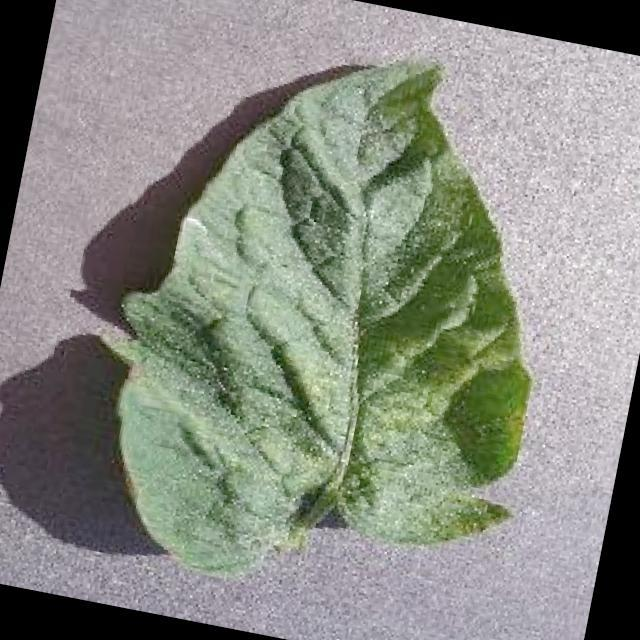Tomato spider mites leaf: (85, 9, 596, 634)
